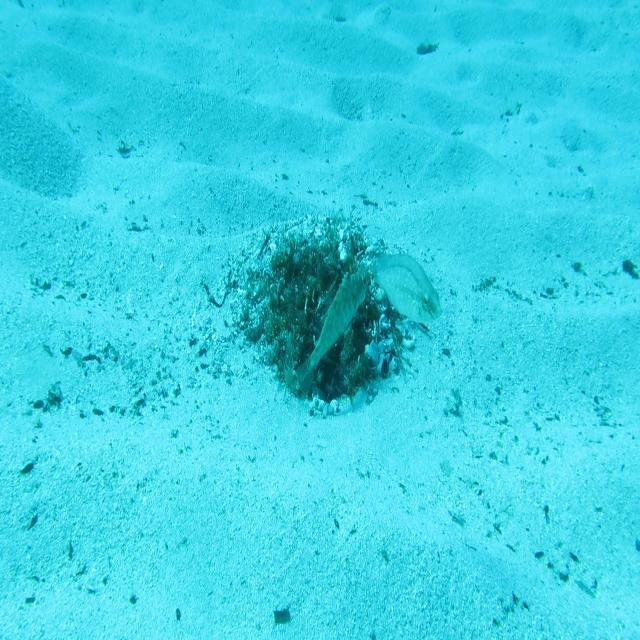FAN: (294, 266, 372, 398)
core_nest: (295, 255, 340, 285)
female: (368, 250, 444, 330)
nest: (222, 207, 420, 438)
vegetation: (619, 257, 640, 285), (416, 37, 437, 57), (275, 606, 291, 626)
